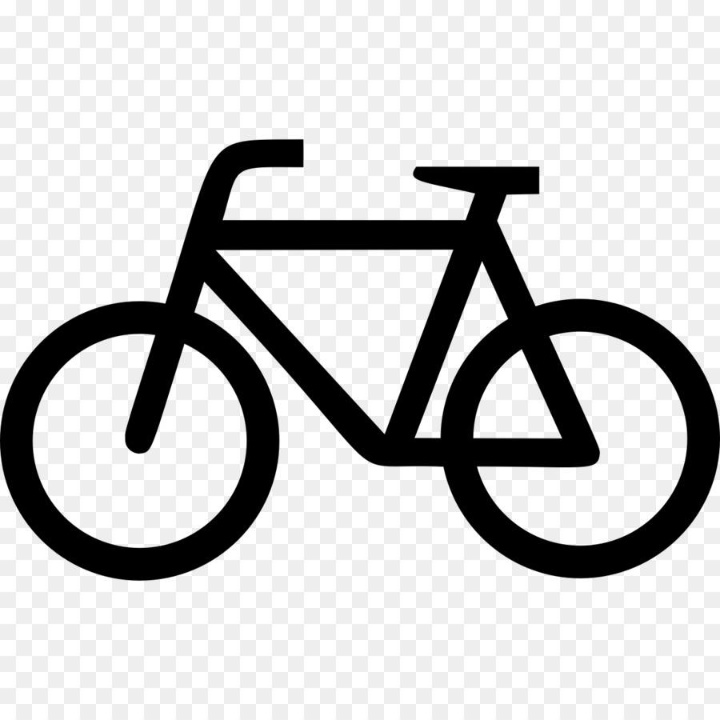bicycle: (7, 72, 714, 609)
